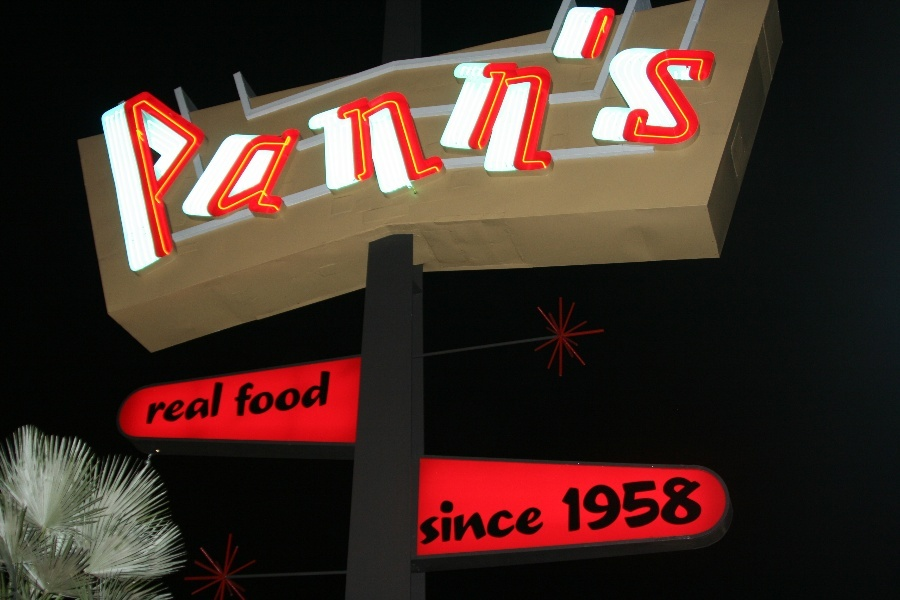text: (81, 2, 96, 278), (97, 2, 112, 278), (113, 2, 128, 278), (129, 2, 144, 278), (145, 2, 160, 278), (161, 2, 176, 278), (177, 2, 192, 278), (193, 2, 208, 278), (209, 2, 224, 278), (225, 2, 240, 278), (241, 2, 256, 278), (257, 2, 272, 278), (273, 2, 288, 278), (289, 2, 304, 278), (305, 2, 320, 278), (321, 2, 336, 278), (337, 2, 352, 278), (353, 2, 368, 278), (369, 2, 384, 278), (385, 2, 400, 278), (401, 2, 416, 278), (417, 2, 432, 278), (433, 2, 448, 278), (449, 2, 464, 278), (465, 2, 480, 278), (481, 2, 496, 278), (497, 2, 512, 278), (513, 2, 528, 278), (529, 2, 544, 278), (545, 2, 560, 278), (561, 2, 576, 278), (577, 2, 592, 278), (593, 2, 608, 278), (609, 2, 624, 278), (625, 2, 640, 278), (641, 2, 656, 278), (657, 2, 672, 278), (673, 2, 688, 278), (689, 2, 704, 278), (705, 2, 720, 278), (721, 2, 726, 278), (561, 475, 576, 535), (577, 475, 592, 535), (593, 475, 608, 535), (609, 475, 624, 535), (625, 475, 640, 535), (641, 475, 656, 535), (657, 475, 672, 535), (673, 475, 688, 535), (689, 475, 704, 535), (433, 495, 448, 546), (449, 495, 464, 546), (465, 495, 480, 546), (481, 495, 496, 546), (497, 495, 512, 546), (513, 495, 528, 546), (529, 495, 544, 546), (209, 380, 225, 426), (241, 370, 256, 418), (257, 370, 272, 418), (273, 370, 288, 418), (289, 370, 304, 418), (305, 370, 320, 418), (161, 380, 176, 426), (177, 380, 192, 426), (193, 380, 208, 426), (321, 370, 332, 418), (422, 495, 432, 546), (149, 380, 160, 426), (233, 370, 240, 418), (558, 475, 560, 535), (545, 495, 547, 546), (705, 475, 706, 535)
